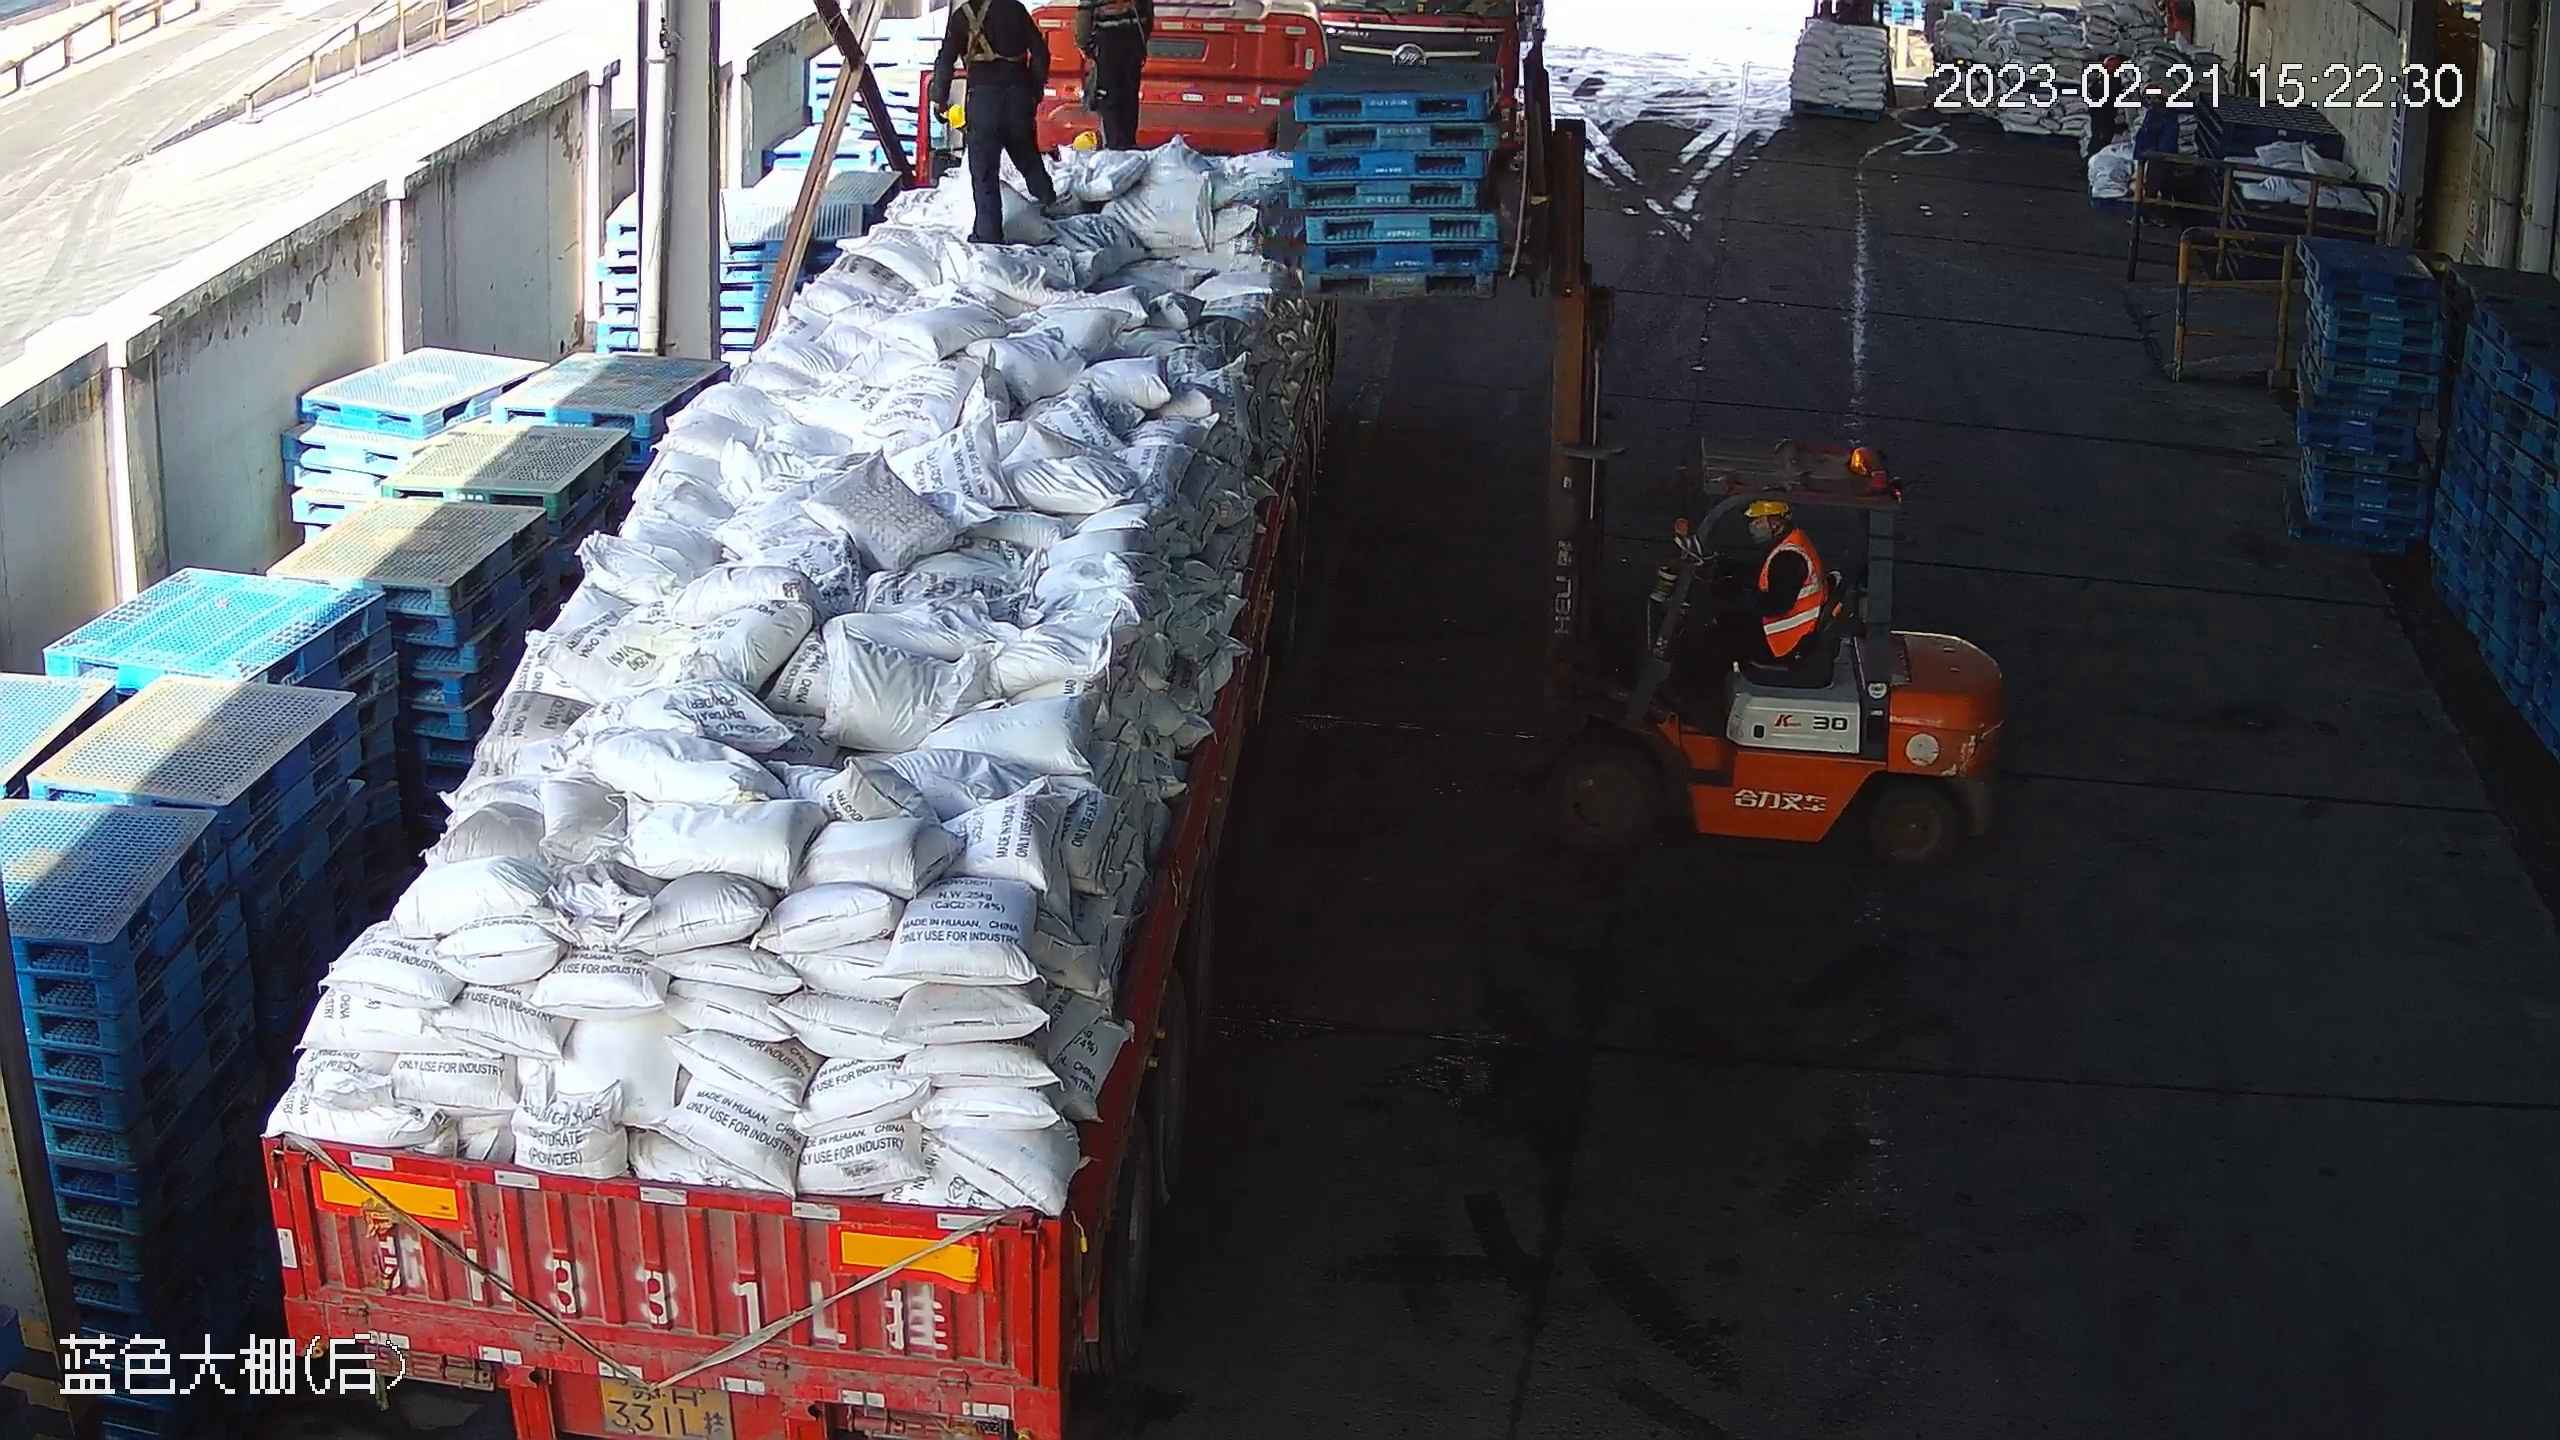belt: (955, 4, 1014, 65)
head: (1732, 502, 1809, 578)
helmet: (1748, 499, 1792, 523)
people: (928, 2, 1062, 255), (1690, 498, 1834, 728), (1069, 2, 1149, 157)
truck: (241, 1, 1377, 1440)
